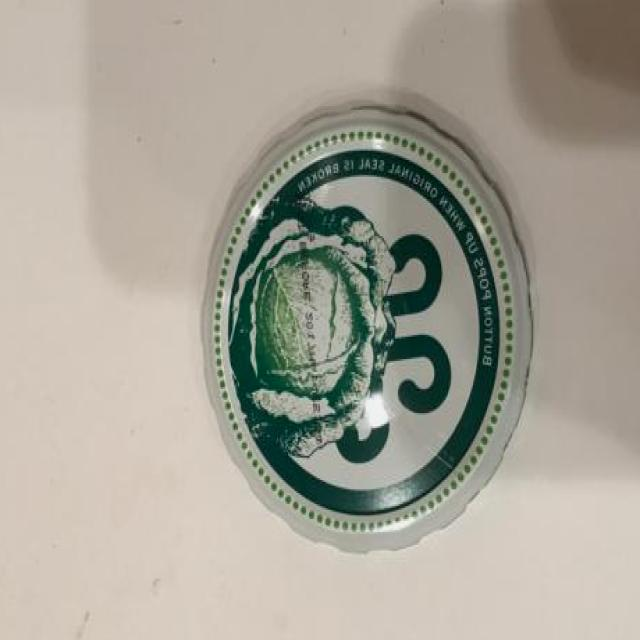nhom: (200, 106, 536, 553)
